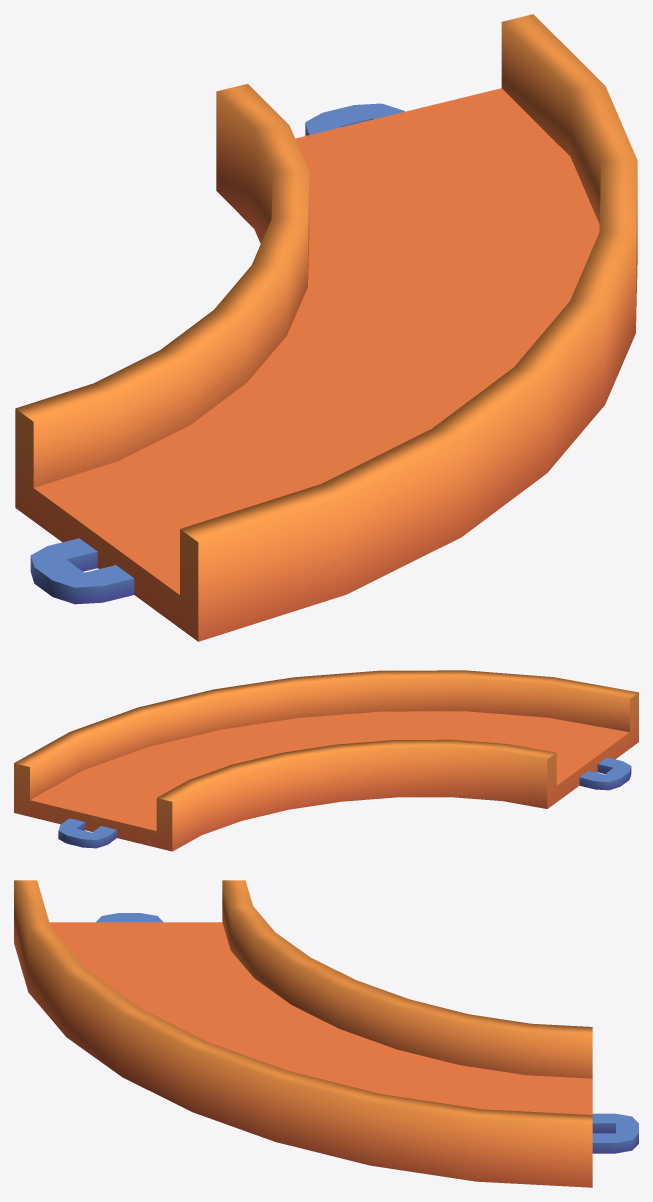
Rendered from track-narrow-corner-small.glb.
3 views of the same model, one above another, from view 1: azimuth 30°, elevation 25°; view 2: azimuth 150°, elevation 25°; view 3: azimuth 270°, elevation 25° (orthographic). The views are drawn at different scales.
Visible parts, largest first — view 1: track-narrow-corner-small; view 2: track-narrow-corner-small; view 3: track-narrow-corner-small.
Boxes of the visible parts, <box> form: track-narrow-corner-small: <box>15,14,637,641</box>; track-narrow-corner-small: <box>14,670,638,851</box>; track-narrow-corner-small: <box>14,880,638,1187</box>.
Bounding box in the file's own units: 8.1 × 0.9 × 8.1.
1 material, 1 textured.
